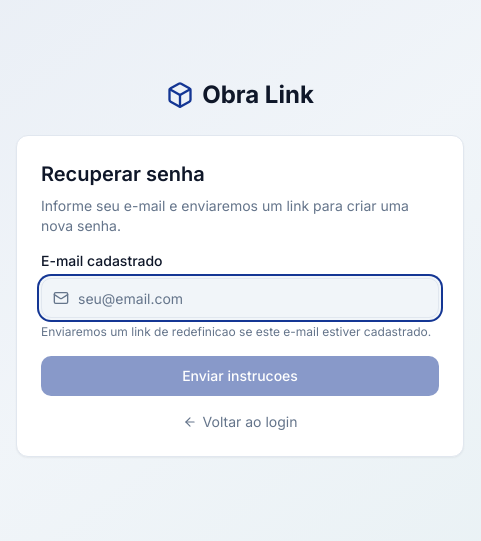
Forgot password flow › keeps the success message generic even when the backend fails
Type "contato@empresa.com" into the field labelled "E-mail cadastrado" at (240, 298), box [41,278,439,318]
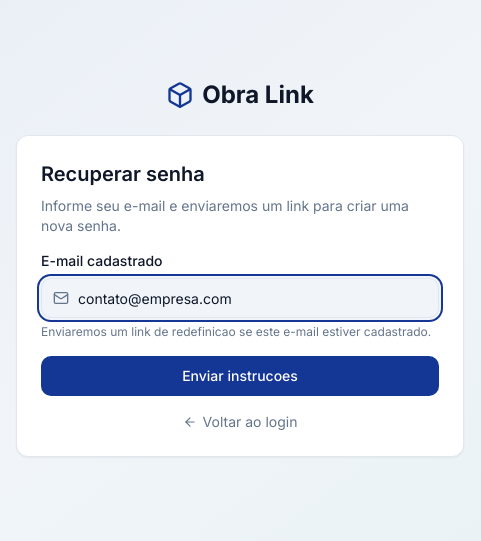
Click the button "Enviar instrucoes" at (240, 376), box [41,356,439,396]
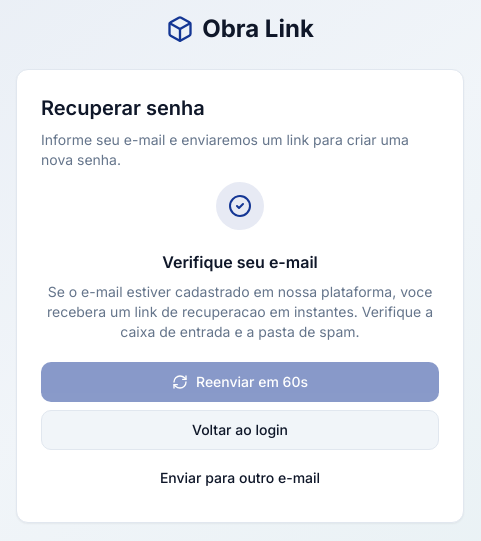
Expected: the heading "Verifique seu e-mail" is shown, [162,252,318,272]
